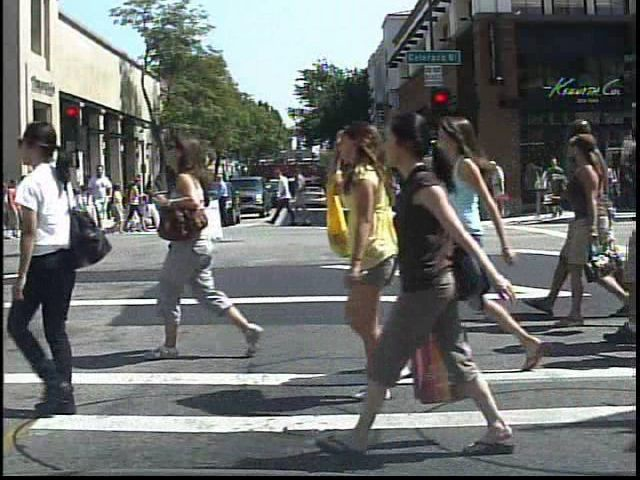person: (355, 101, 505, 460), (425, 105, 558, 379), (0, 116, 113, 433), (133, 117, 260, 363), (332, 117, 402, 392), (85, 160, 117, 239), (484, 154, 516, 226), (41, 165, 69, 240), (10, 171, 34, 242), (102, 177, 122, 217), (164, 175, 183, 210)
